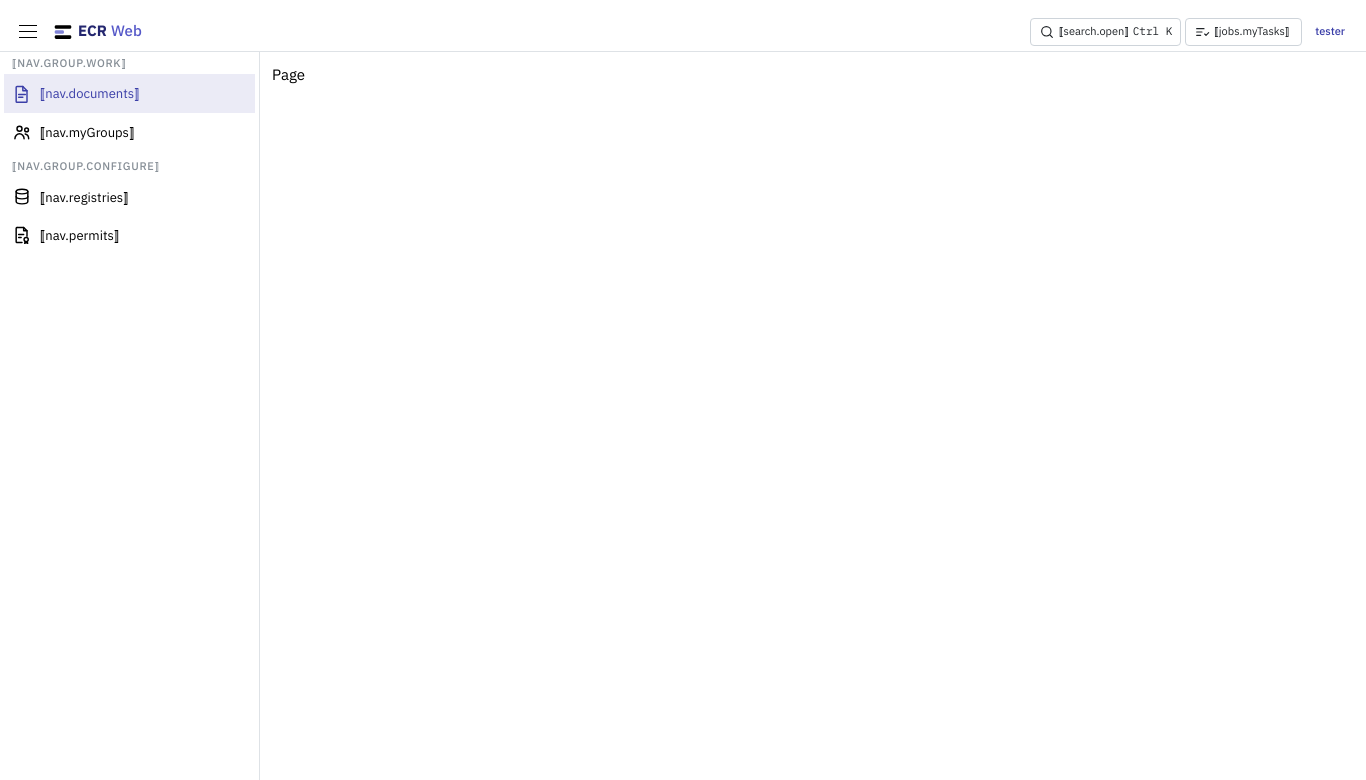
Test: AppLayout: мобільне меню (CL-16) › бургер: aria-expanded відповідає стану, aria-controls вказує на наявну панель
This screenshot has width=1366, height=780.
Step 1. Click the button named "nav.menu" → {"x": 28, "y": 32}, box [12,16,44,48]
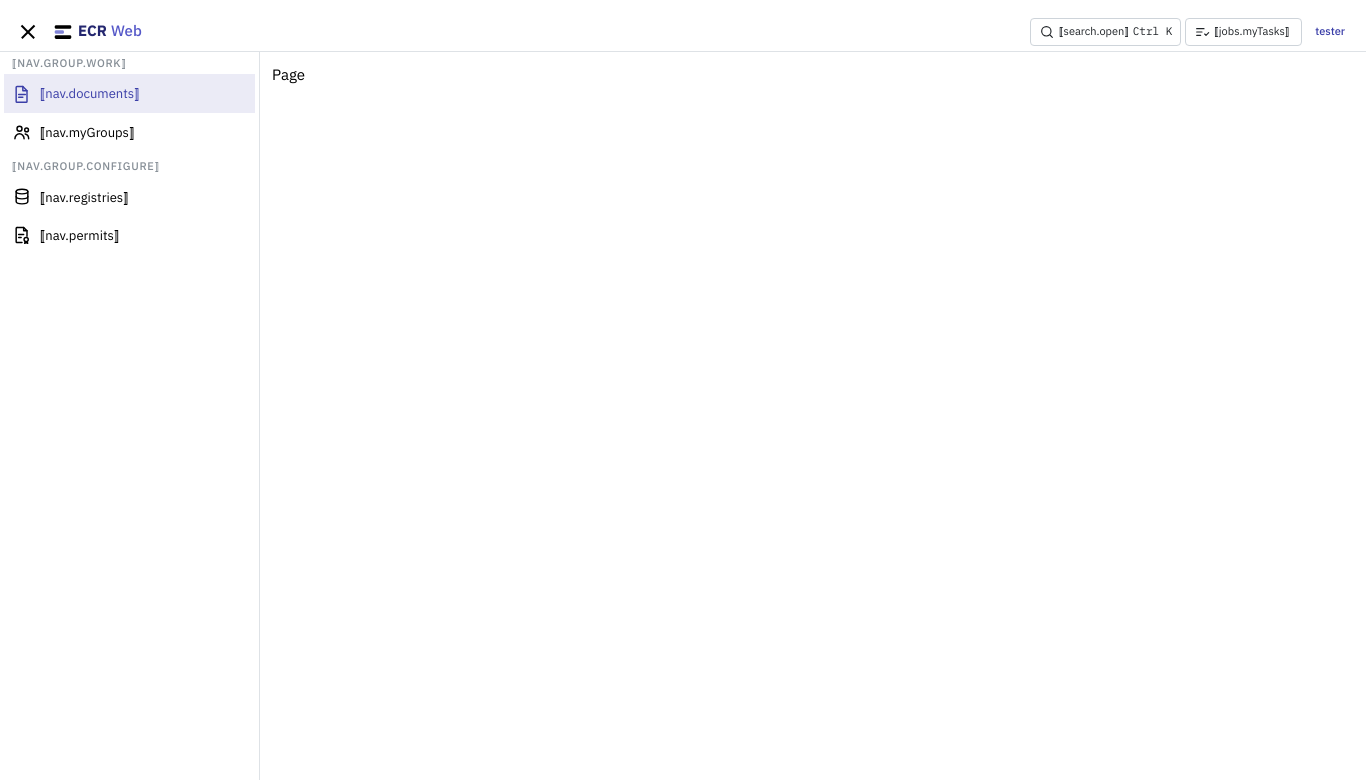
Expected: the button named "nav.menu" is expanded
Step 2. Click the button named "nav.menu" → {"x": 28, "y": 32}, box [12,16,44,48]
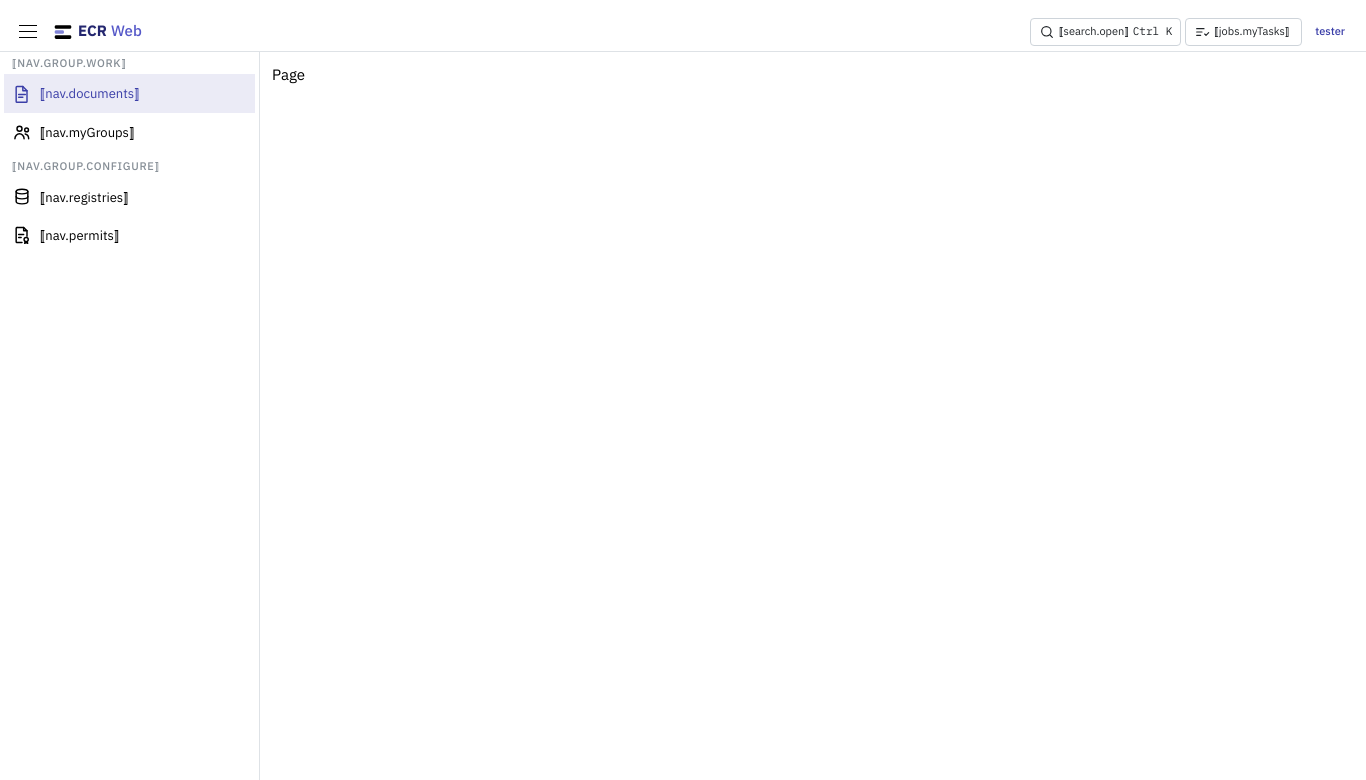
Expected: the button named "nav.menu" is collapsed, [12,16,44,48]
